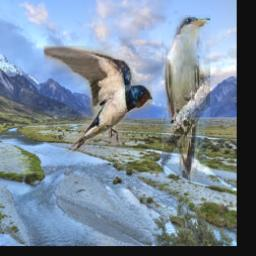Cuckoo: (162, 16, 210, 231)
Swallow: (45, 47, 153, 169)
